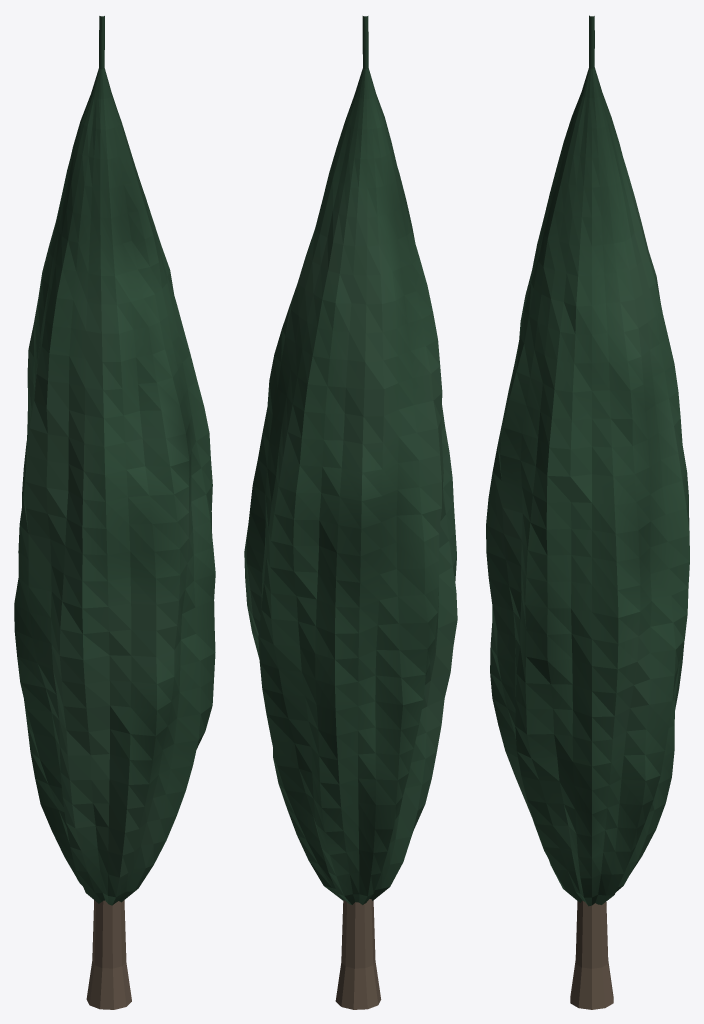
File: cypres.glb
3 views of the same model, side by side, from view 1: azimuth 30°, elevation 25°; view 2: azimuth 150°, elevation 25°; view 3: azimuth 270°, elevation 25° (orthographic).
Parts seen in each view (by area): view 1: cypres; view 2: cypres; view 3: cypres.
Part boxes in pixels (x1,y1,x2,y2): cypres: (14, 16, 215, 1009); cypres: (244, 16, 457, 1009); cypres: (486, 15, 689, 1009).
Bounding box in the file's own units: 1.48 × 7.6 × 1.43.
